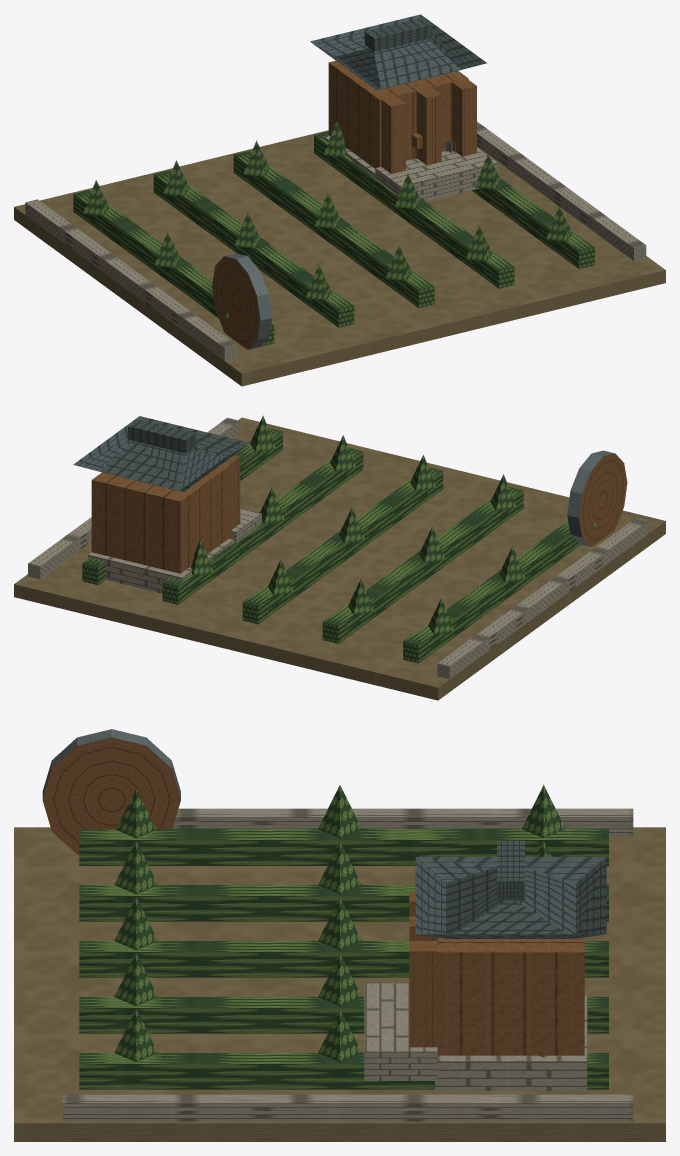
The model's file is domestic-FARM-2-lod0.glb.
The picture shows the model from 3 angles, top to bottom: view 1: azimuth 30°, elevation 25°; view 2: azimuth 150°, elevation 25°; view 3: azimuth 270°, elevation 25°; orthographic projection. The views are drawn at different scales.
Size of the model in its own units: 0.86 by 0.292 by 0.8.
Materials: 1 (1 with a texture image).
